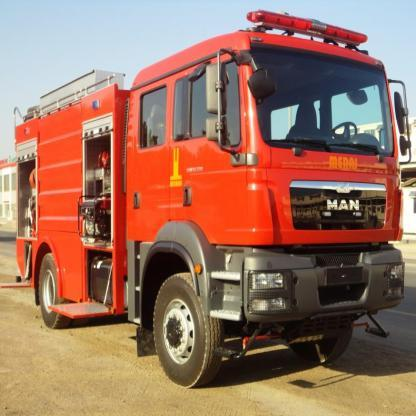fire-truck: (24, 6, 414, 397)
